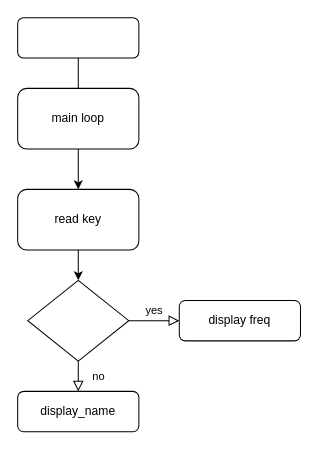
The diagram is 318 pixels wide and 449 high, and some of its shapes have lost their labels. Each missing label, with the centre of its shape:
"init variables" goes at point 78,37.
"key == function" goes at point 78,320.
